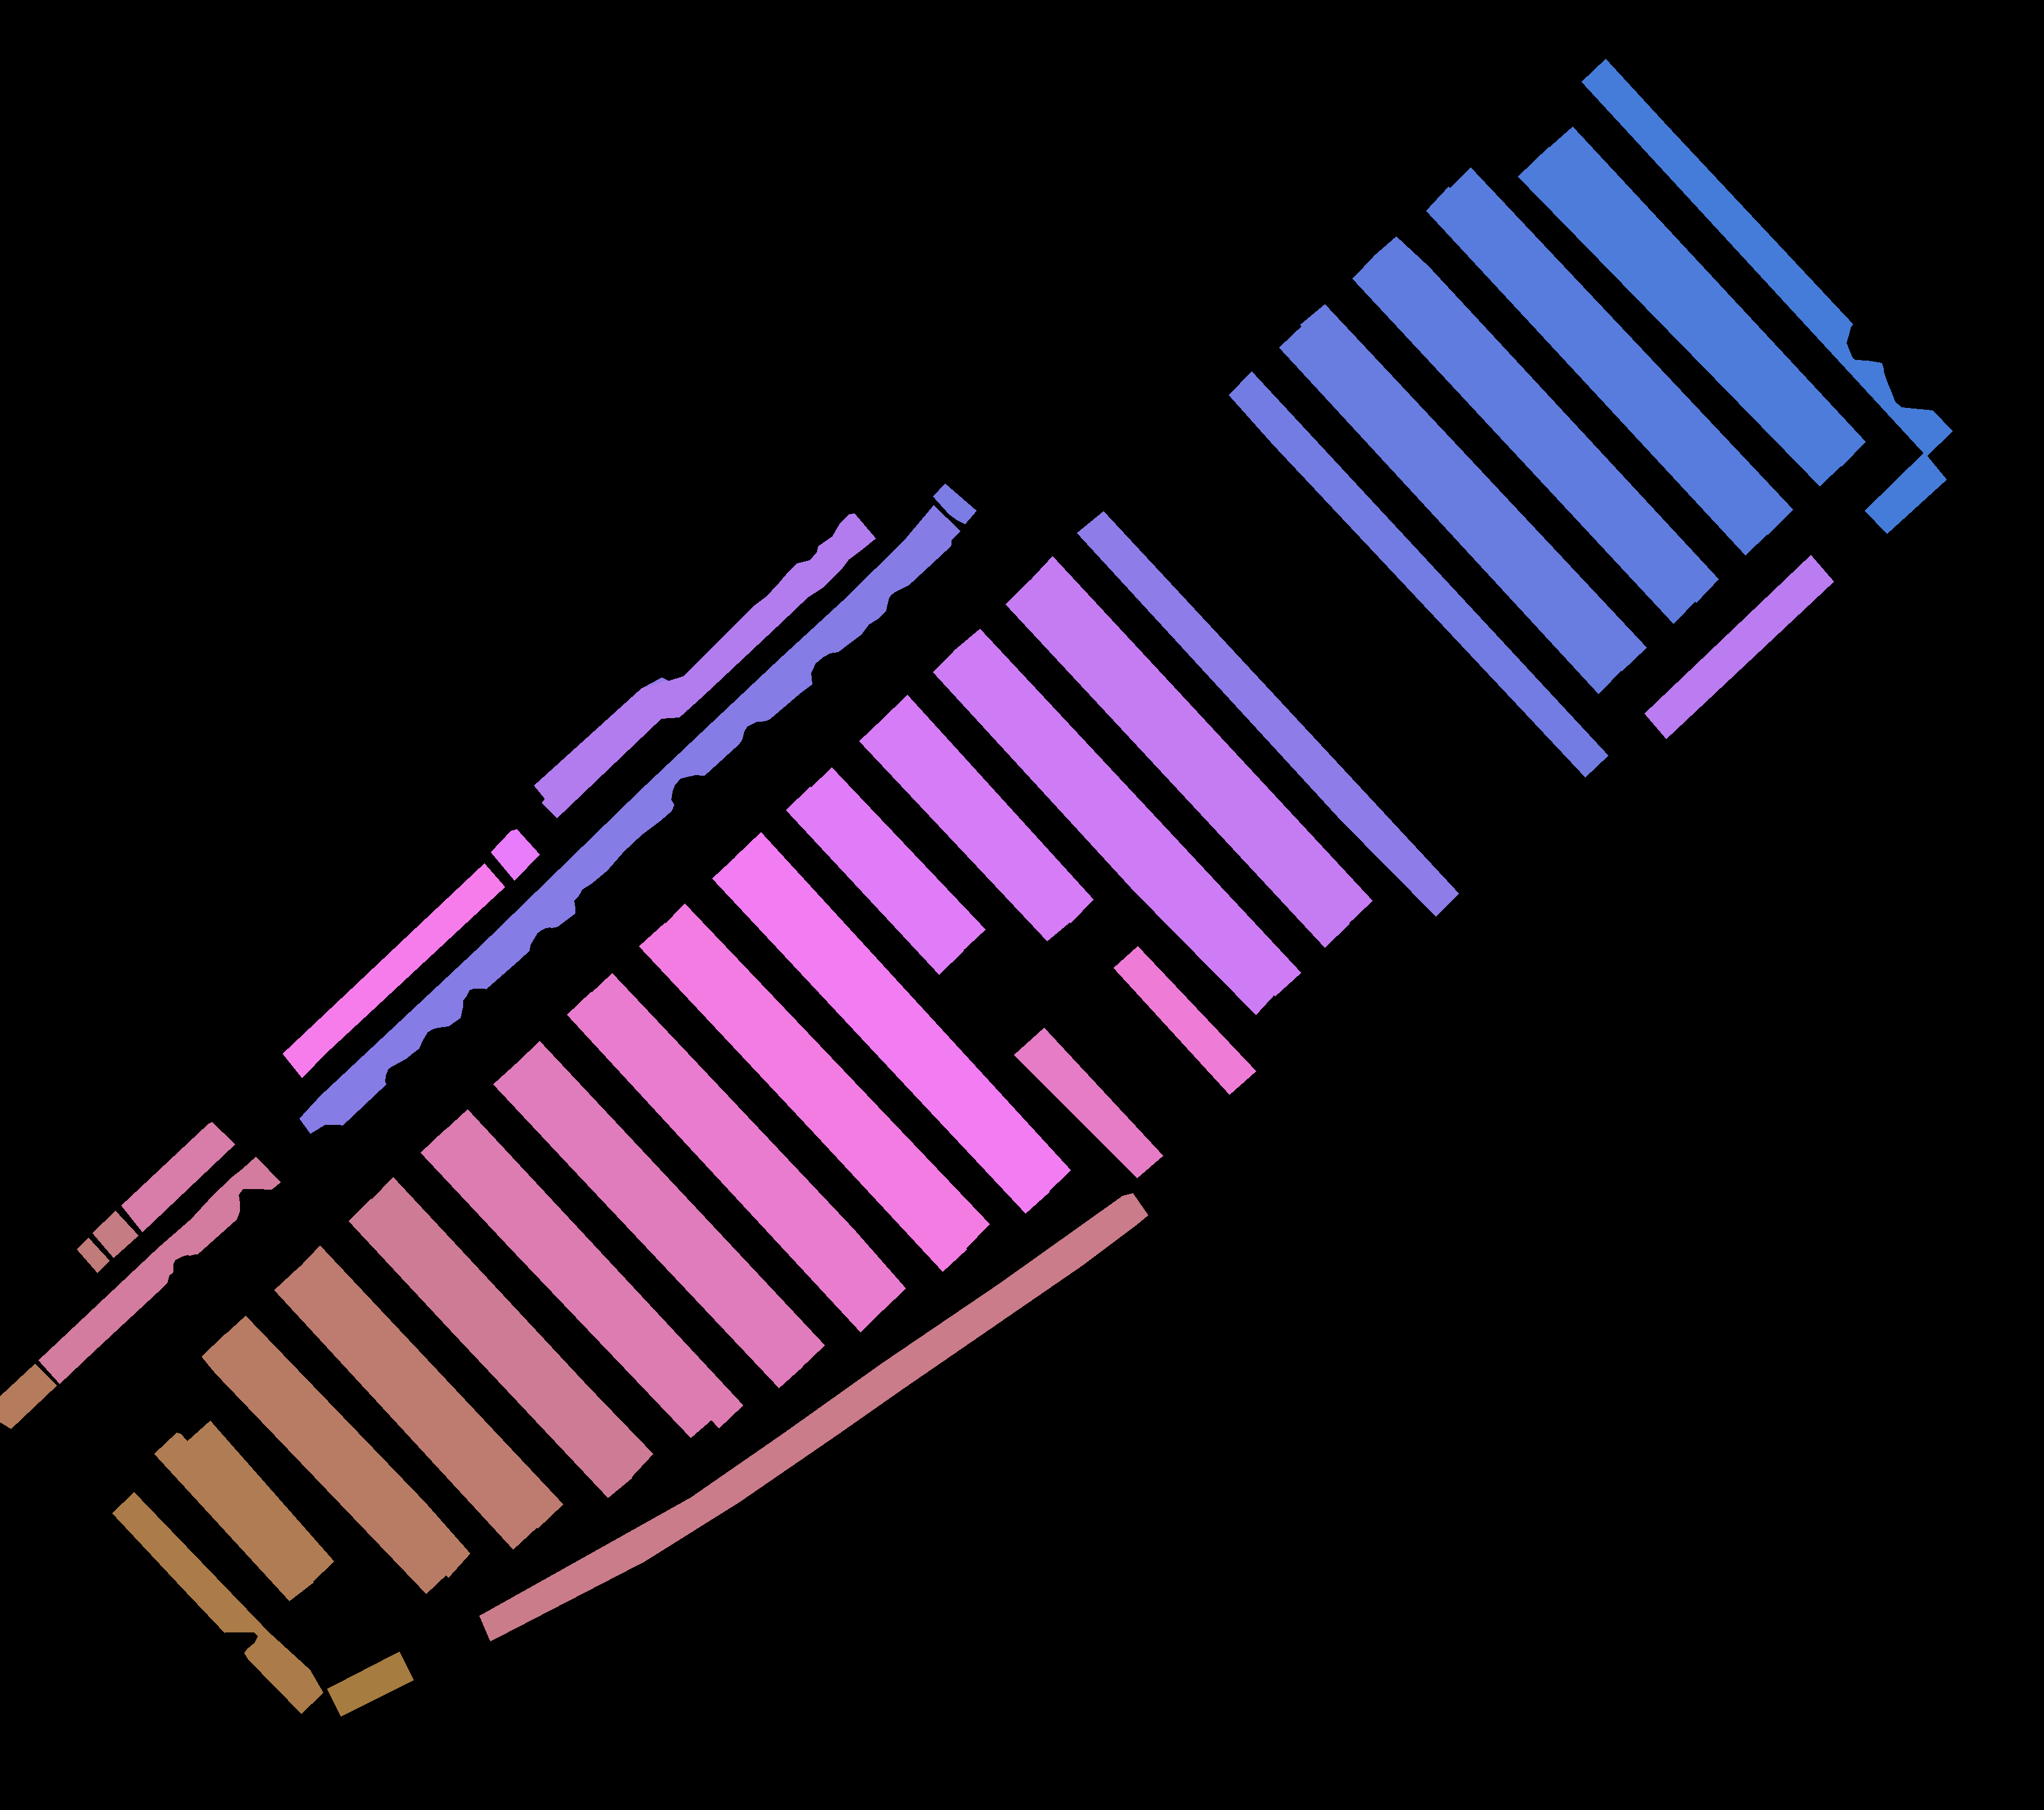parkingspot: (299, 505, 959, 1134), (479, 1193, 1148, 1641), (1076, 512, 1459, 915), (1228, 372, 1607, 777), (1581, 59, 1951, 456), (954, 629, 1302, 996), (1279, 323, 1623, 694), (1373, 236, 1719, 603), (1300, 304, 1646, 671), (1352, 255, 1696, 624), (1029, 556, 1371, 926), (1448, 168, 1792, 535), (1426, 187, 1768, 556), (1006, 580, 1349, 947), (933, 648, 1275, 1015), (735, 832, 1071, 1193), (713, 854, 1050, 1212), (639, 922, 966, 1272), (662, 903, 989, 1251), (1518, 147, 1843, 486), (1546, 126, 1866, 466), (568, 992, 886, 1331), (590, 973, 905, 1310), (535, 514, 875, 818), (493, 1060, 802, 1387), (517, 1041, 825, 1368), (444, 1109, 742, 1427), (421, 1130, 713, 1438), (372, 1178, 653, 1480), (349, 1199, 632, 1497), (297, 1246, 563, 1529), (274, 1267, 536, 1550), (224, 1316, 470, 1578), (201, 1335, 447, 1593), (38, 1157, 280, 1384), (880, 695, 1094, 922), (283, 863, 505, 1078), (860, 718, 1071, 940), (112, 1492, 323, 1714), (1644, 556, 1833, 739), (786, 786, 964, 975), (811, 767, 985, 952), (154, 1433, 313, 1600), (187, 1420, 334, 1581), (1013, 1027, 1164, 1178), (1113, 947, 1256, 1094), (121, 1122, 234, 1232), (1864, 453, 1946, 533), (327, 1651, 414, 1716), (0, 1364, 56, 1429), (491, 830, 540, 881), (93, 1211, 138, 1258), (933, 484, 977, 524), (77, 1237, 110, 1272)
